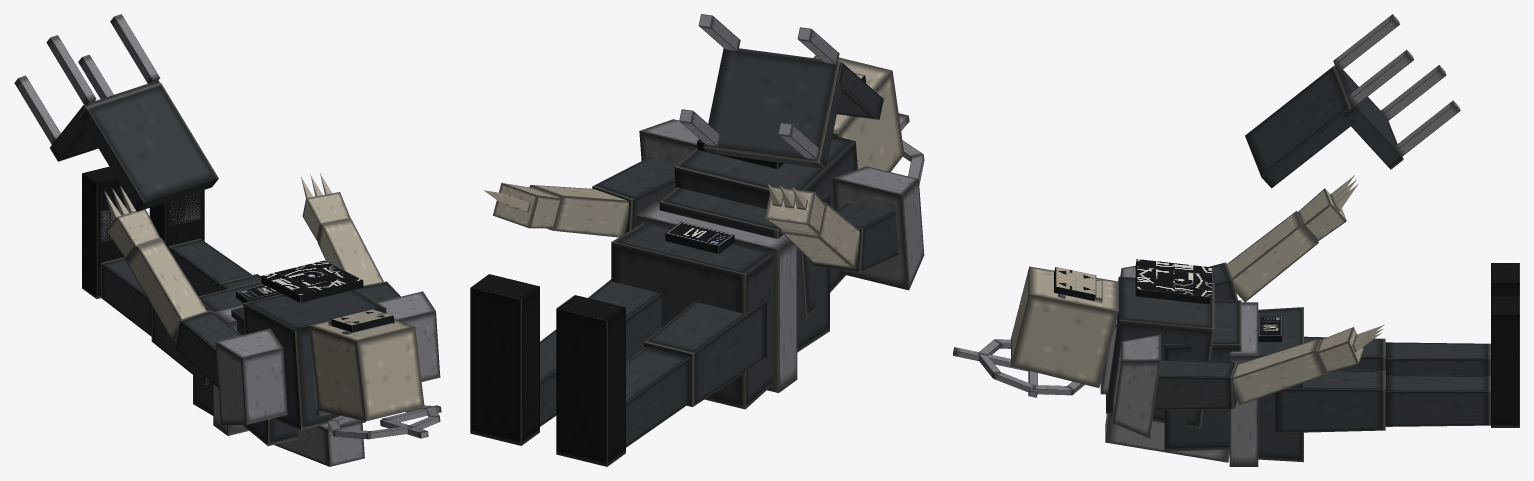
The model's file is posthum_neutral.obj.
The picture shows the model from 3 angles, left to right: view 1: azimuth 30°, elevation 25°; view 2: azimuth 150°, elevation 25°; view 3: azimuth 270°, elevation 25°; orthographic projection. The views are drawn at different scales.
Parts seen in each view (by area): view 1: posthum_neutral; view 2: posthum_neutral; view 3: posthum_neutral.
Part boxes in pixels (x1=…): posthum_neutral: x1=14, y1=14, x2=441, y2=466; posthum_neutral: x1=470, y1=14, x2=924, y2=466; posthum_neutral: x1=953, y1=14, x2=1519, y2=466.
Bounding box in the file's own units: 0.5562 × 0.7128 × 1.
1 material, 1 textured.
